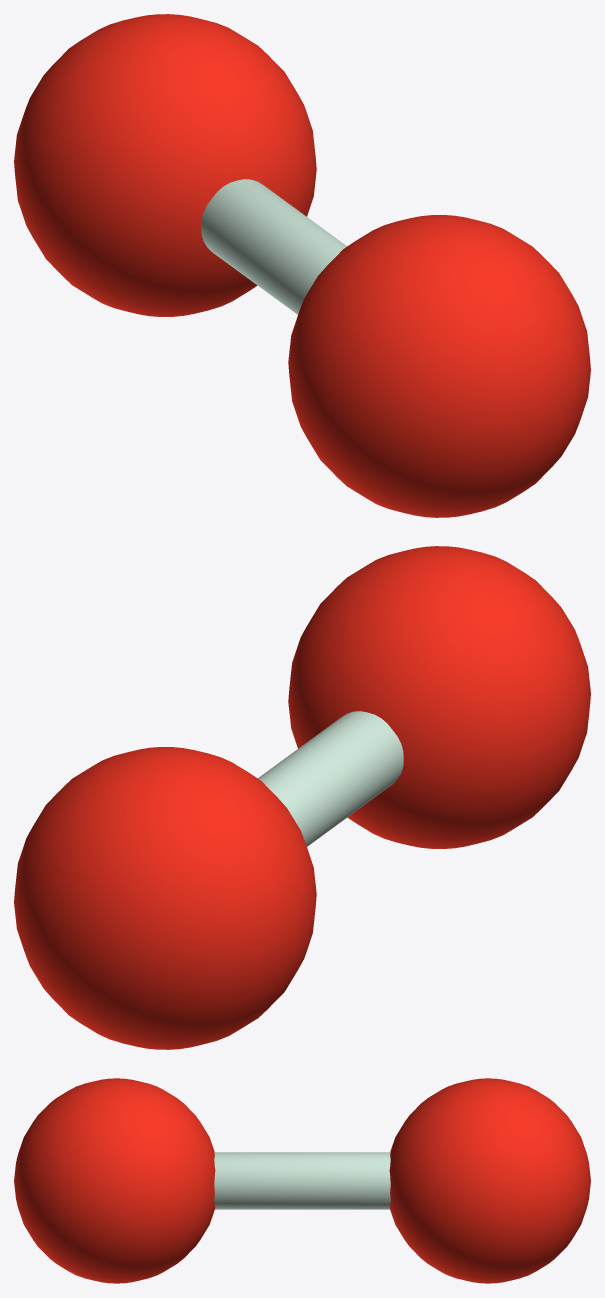
File: moleculeModel0.glb
3 renders of one model, top to bottom at view 1: azimuth 30°, elevation 25°; view 2: azimuth 150°, elevation 25°; view 3: azimuth 270°, elevation 25°, orthographic. The views are drawn at different scales.
Visible parts, largest first — view 1: Sphere.001, Sphere, Cylinder; view 2: Sphere, Sphere.001, Cylinder; view 3: Sphere, Sphere.001, Cylinder.
Boxes of the visible parts, bbox=[...] form: Sphere.001: bbox=[288, 215, 590, 517]; Sphere: bbox=[14, 14, 316, 316]; Cylinder: bbox=[201, 179, 346, 314]; Sphere: bbox=[14, 747, 316, 1049]; Sphere.001: bbox=[288, 546, 590, 848]; Cylinder: bbox=[258, 711, 403, 846]; Sphere: bbox=[389, 1078, 590, 1283]; Sphere.001: bbox=[14, 1078, 215, 1283]; Cylinder: bbox=[214, 1152, 390, 1209].
Bounding box in the file's own units: 4.13 × 4.13 × 11.61.
